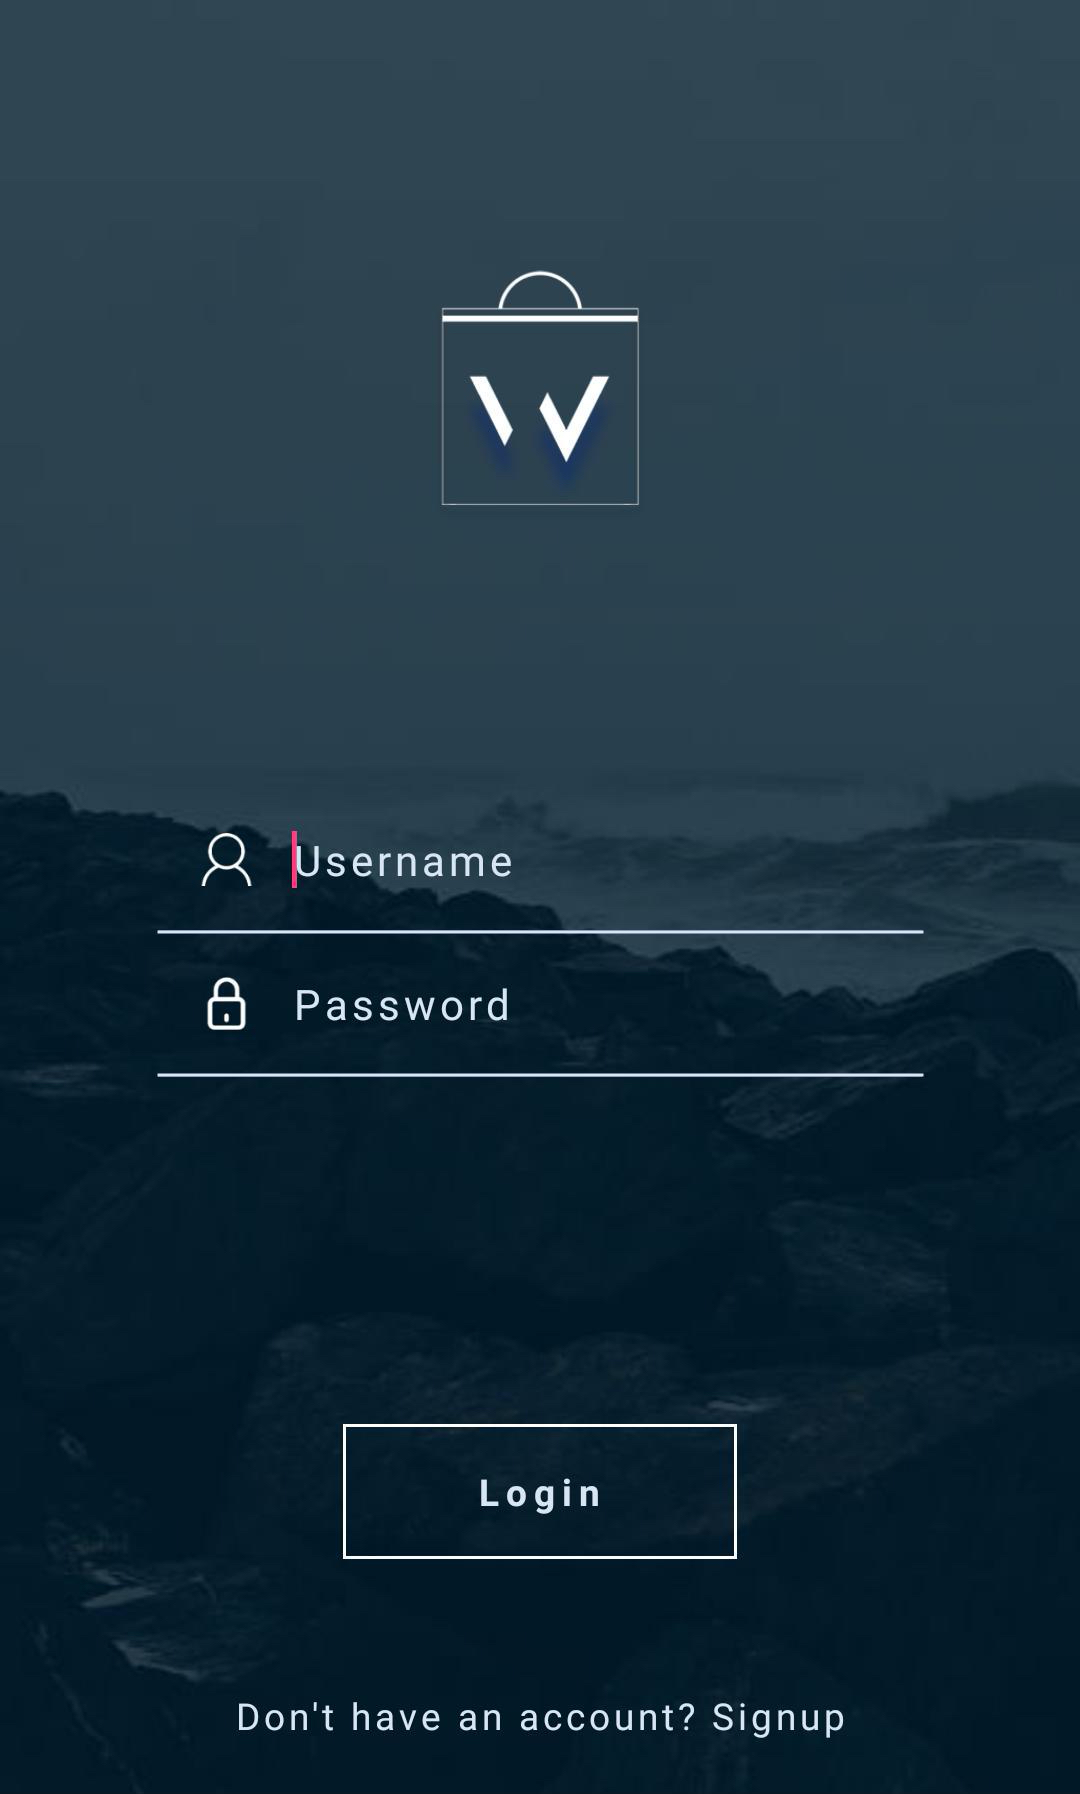BackgroundImage: (3, 1, 1080, 1794)
EditText: (158, 830, 925, 935), (158, 976, 925, 1079)
Icon: (201, 833, 254, 888), (208, 976, 247, 1032)
Image: (441, 270, 641, 507)
Text: (240, 1700, 844, 1739), (296, 988, 509, 1023), (295, 844, 512, 878)
TextButton: (343, 1424, 738, 1559)
